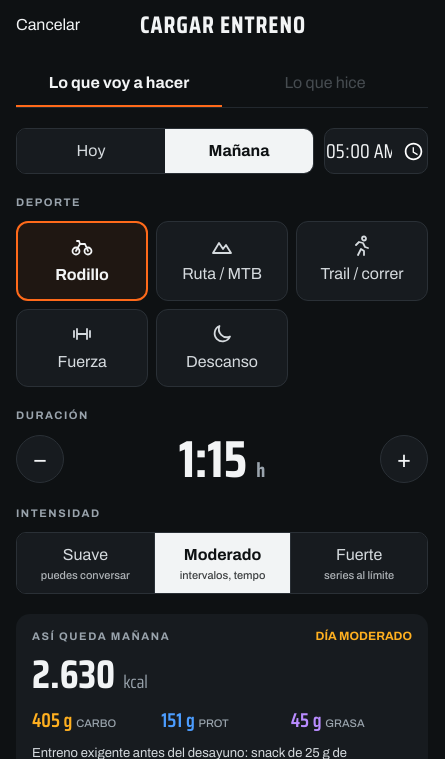
Test: FormEntreno › al elegir 'Fuerte' el día pasa a duro y suben las calorías
The image size is (445, 759).
Click the button "Fuerte series al límite": click(359, 563) [290,532,427,593]
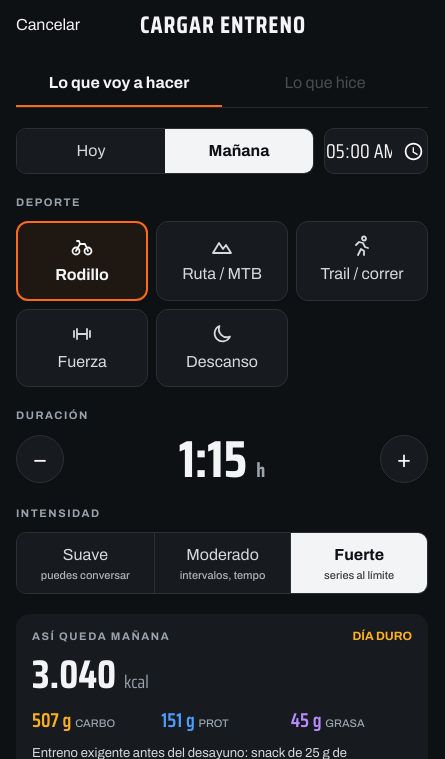
Result: the text "Día duro" is shown at [352,628,412,644]
Result: the text "2.630" is gone
